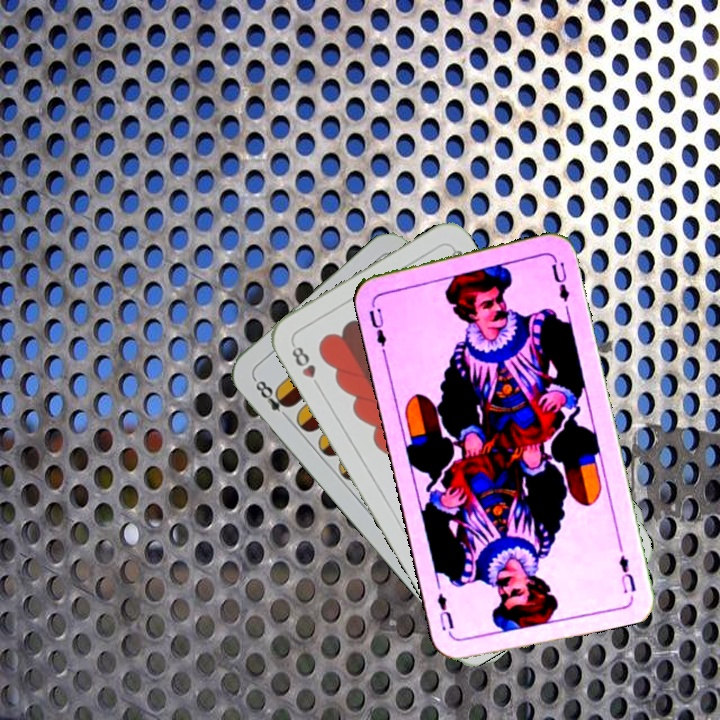E8: (249, 374, 294, 423)
EU: (364, 304, 389, 356), (615, 551, 639, 596)
H8: (287, 339, 324, 392)
